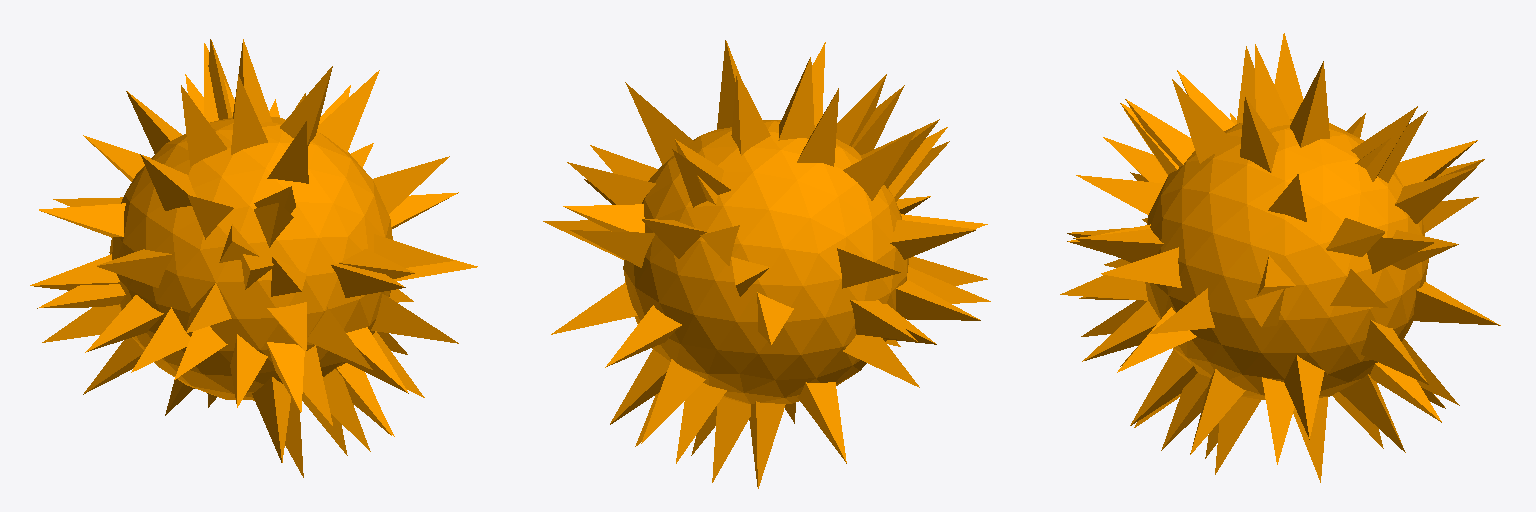
The model's file is Bullet.obj.
3 views of the same model, side by side, from view 1: azimuth 30°, elevation 25°; view 2: azimuth 150°, elevation 25°; view 3: azimuth 270°, elevation 25° (orthographic).
Parts seen in each view (by area): view 1: Circle.001, Circle; view 2: Circle.001, Circle; view 3: Circle.001, Circle.
Part boxes in pixels (x1,y1,x2,y2): Circle.001: (30, 39, 477, 477); Circle: (109, 117, 392, 400); Circle.001: (543, 40, 990, 488); Circle: (623, 120, 908, 403); Circle.001: (1060, 33, 1500, 482); Circle: (1145, 119, 1428, 399).
Size of the model in its own units: 0.8323 by 0.8179 by 0.819.